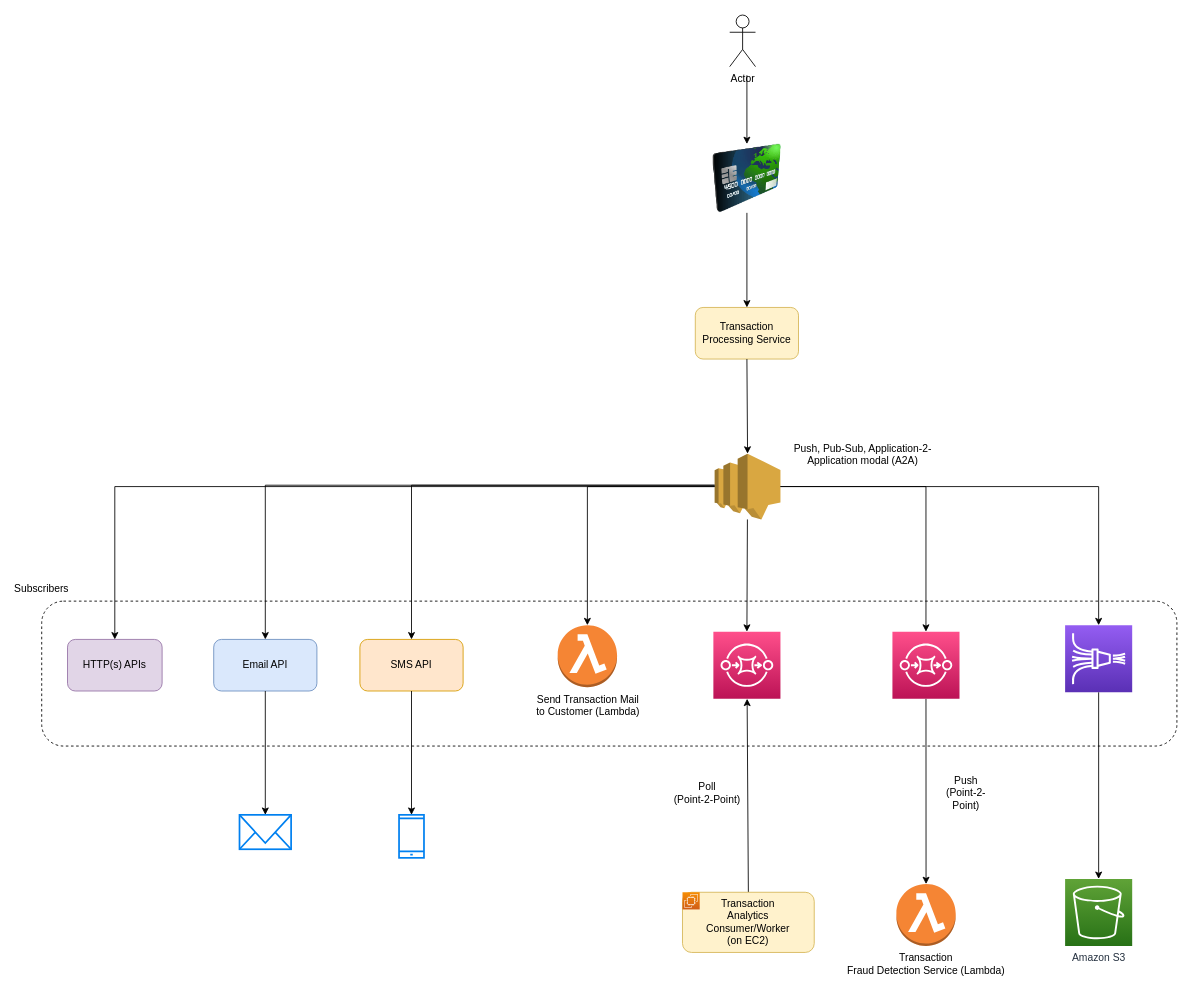
The diagram is 1192 pixels wide and 992 high, and some of its shapes have lost their labels. The centre of each missing label's shape, as x and y in pixels:
Amazon Kinesis Data Firehouse: (x=1098, y=658)
Analytics - SQS Queue: (x=746, y=665)
Credit Card Transaction: (x=746, y=178)
Fraud Detection - SQS Queue: (x=926, y=665)
Transaction SNS Topic: (x=747, y=486)
